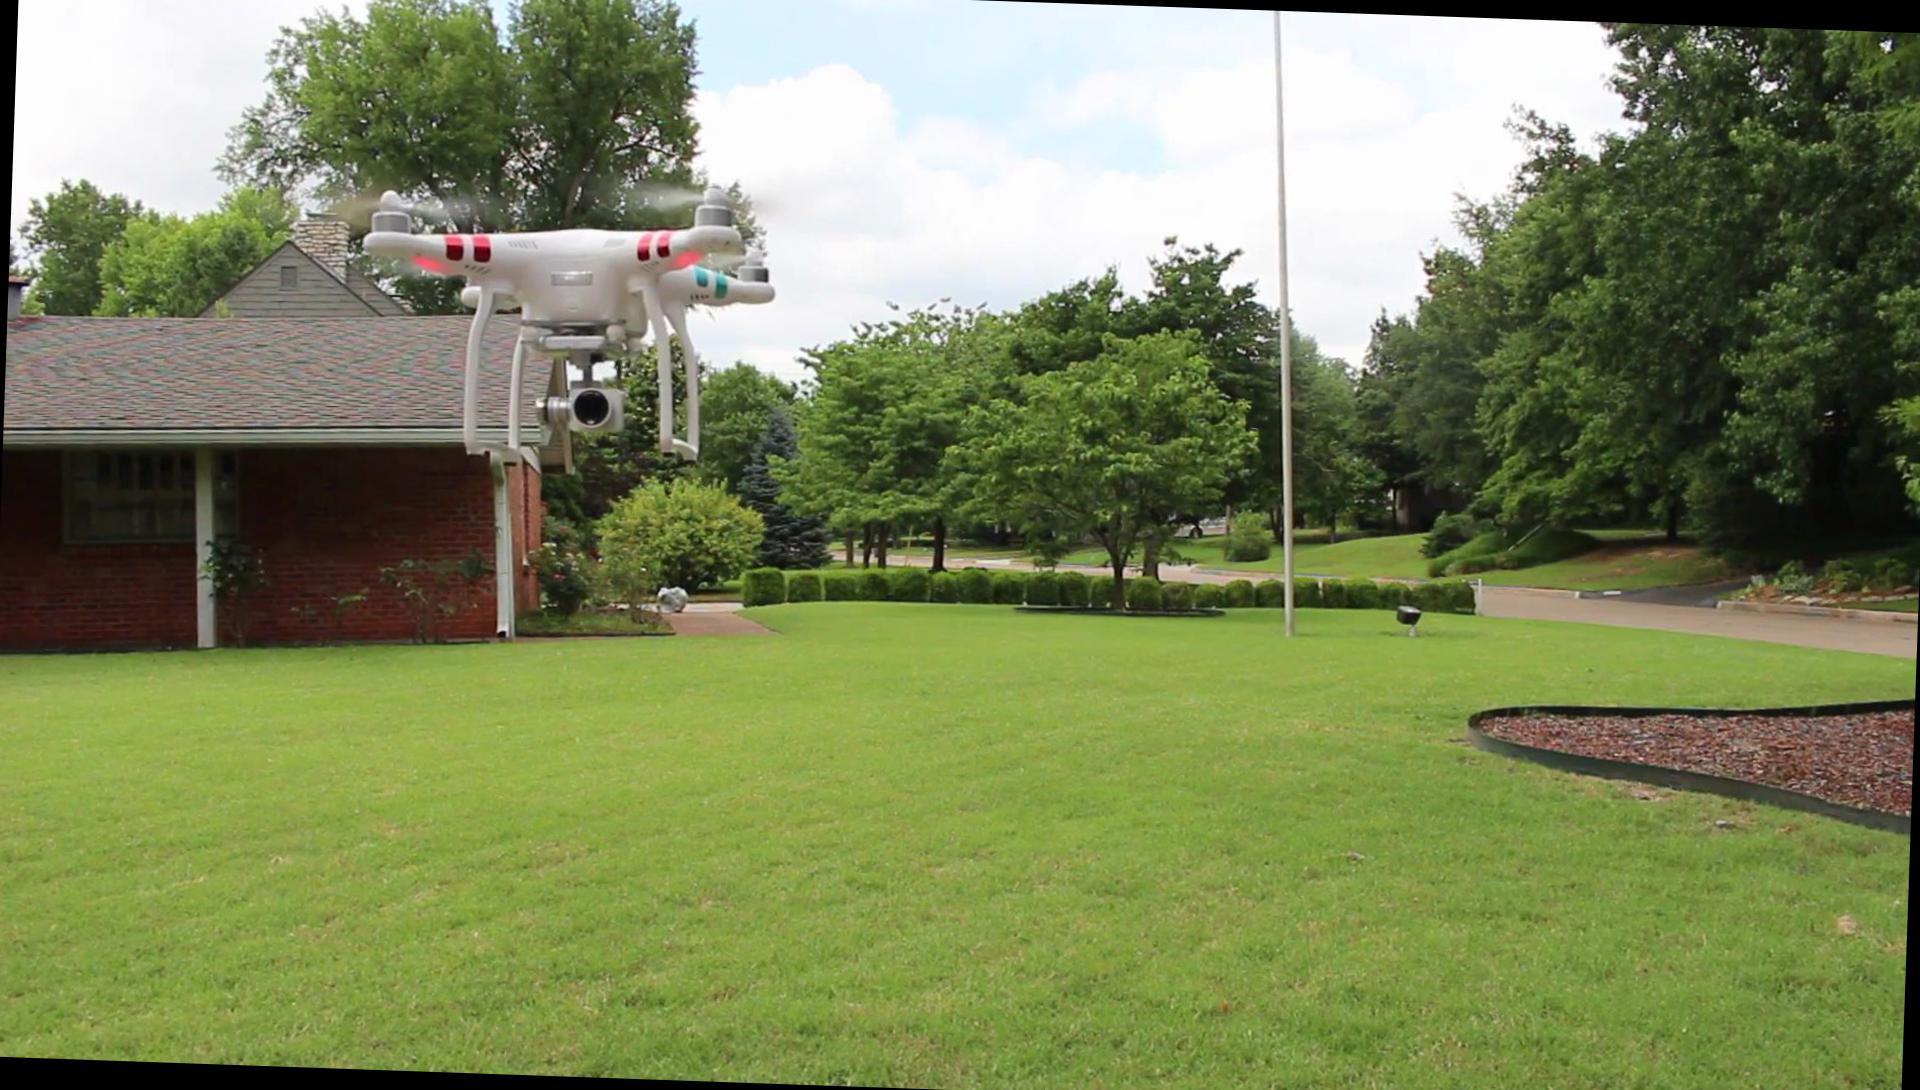drone: (328, 177, 785, 472)
